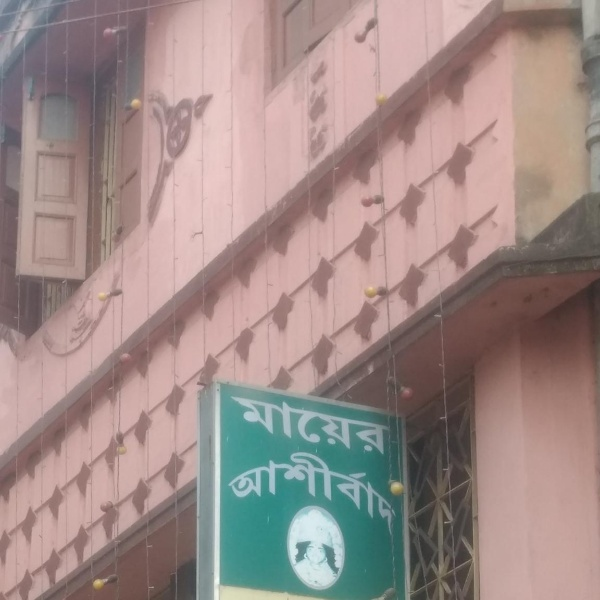text: (225, 437, 240, 542), (241, 437, 256, 542), (257, 437, 272, 542), (273, 437, 288, 542), (289, 437, 304, 542), (305, 437, 320, 542), (321, 437, 336, 542), (337, 437, 352, 542), (353, 437, 368, 542), (369, 437, 384, 542), (385, 437, 400, 542), (241, 389, 256, 463), (257, 389, 272, 463), (273, 389, 288, 463), (289, 389, 304, 463), (305, 389, 320, 463), (321, 389, 336, 463), (337, 389, 352, 463), (353, 389, 368, 463), (369, 389, 384, 463), (229, 389, 240, 463), (385, 389, 394, 463), (401, 437, 405, 542)
